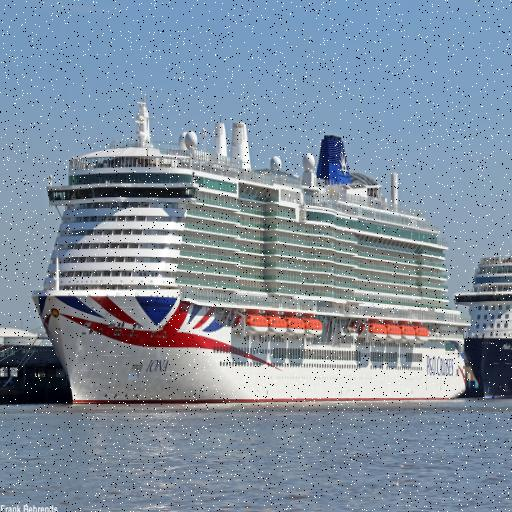cruises: (28, 95, 477, 411)
